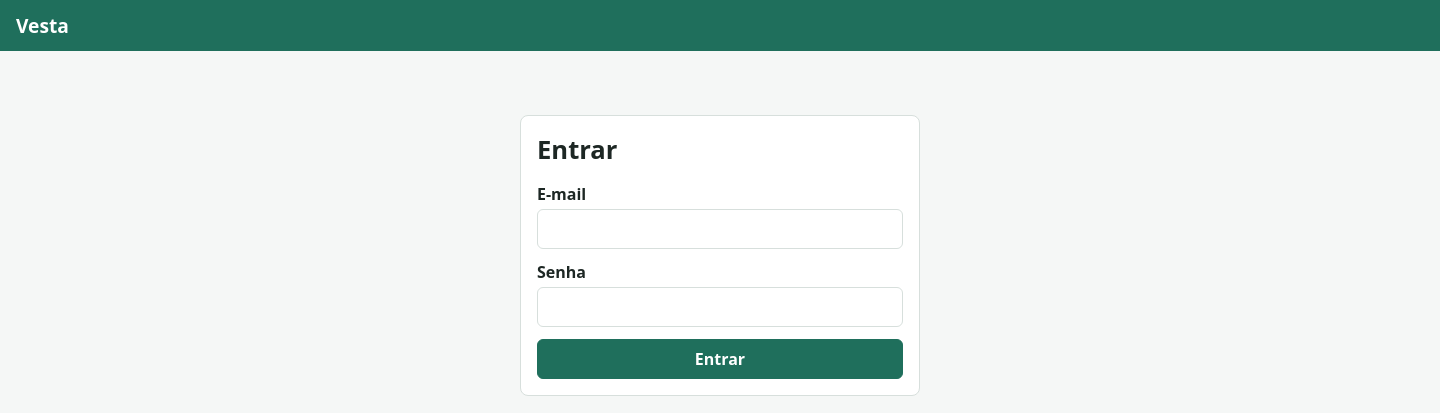
Scenario: LoginPage › stores the token and opens the goal list after a successful login
In the field labelled "E-mail": {"x": 720, "y": 229} [537, 209, 903, 249], type "carlos@silva.demo"
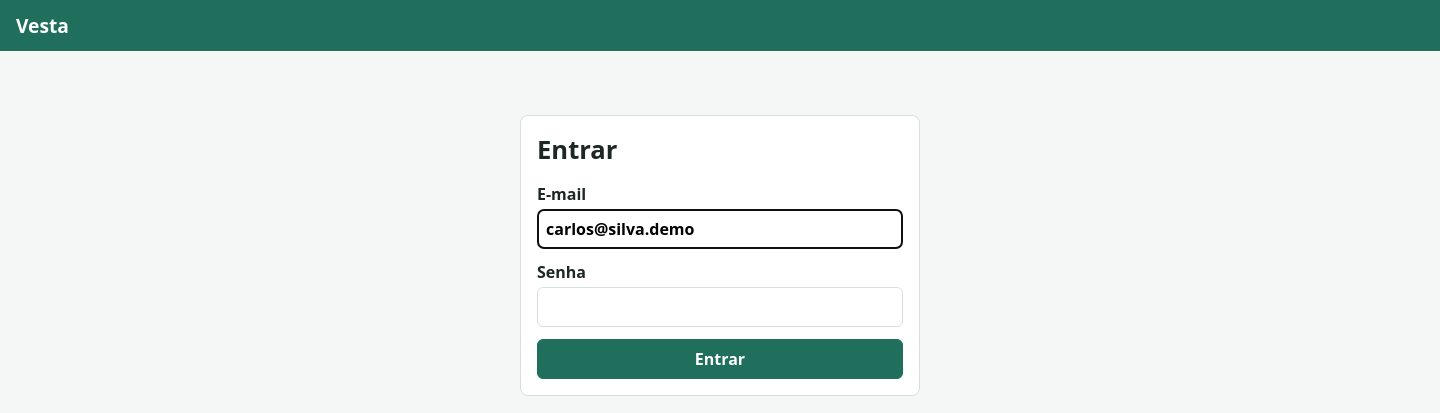
In the password field labelled "Senha": {"x": 720, "y": 307} [537, 287, 903, 327], type "vesta-demo"
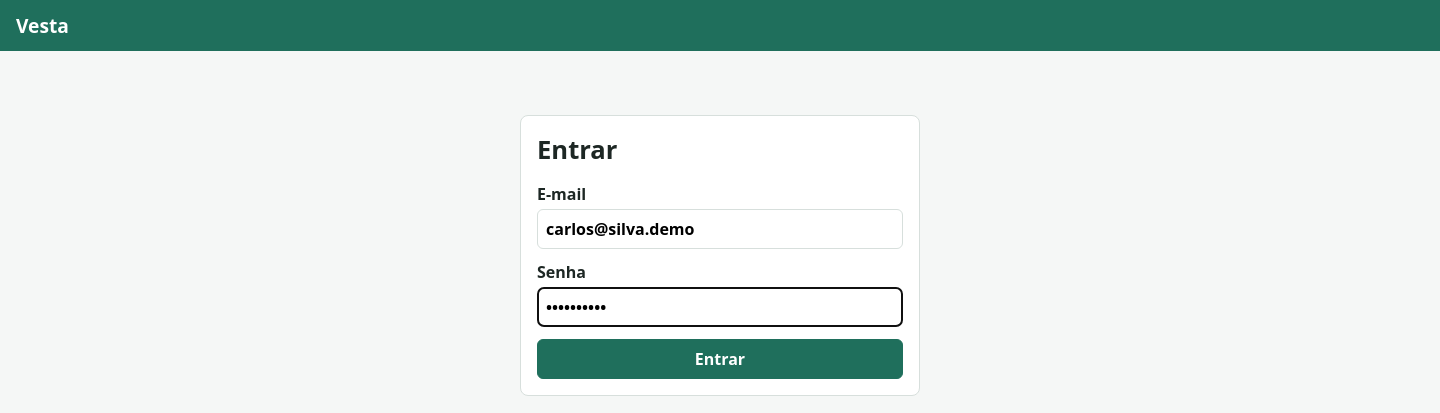
Click the button "Entrar": {"x": 720, "y": 359} [537, 339, 903, 379]
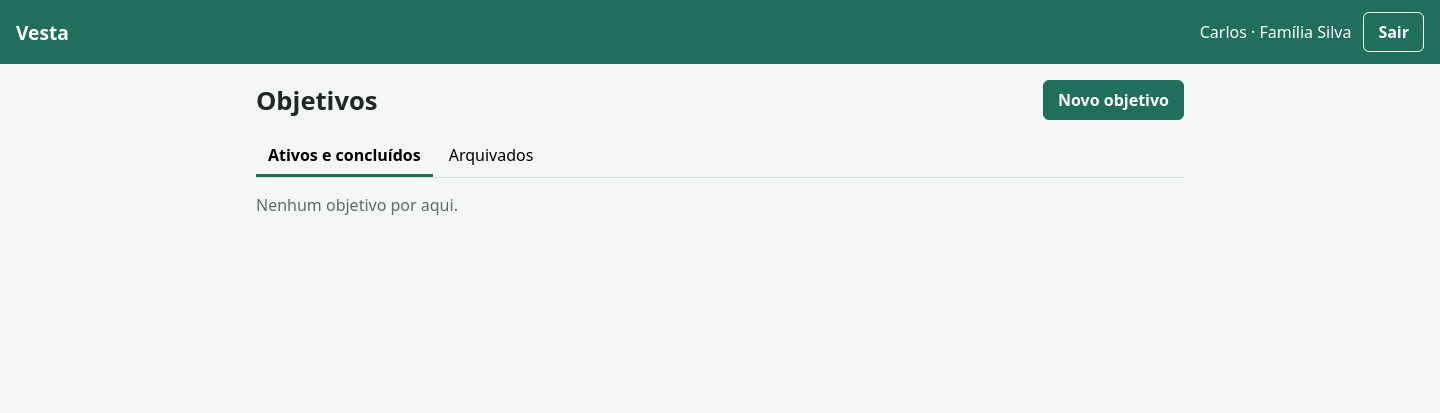
Result: the heading "Objetivos" is shown at [256, 82, 378, 118]
Result: the text "Carlos · Família Silva" is shown at [1200, 21, 1351, 43]
